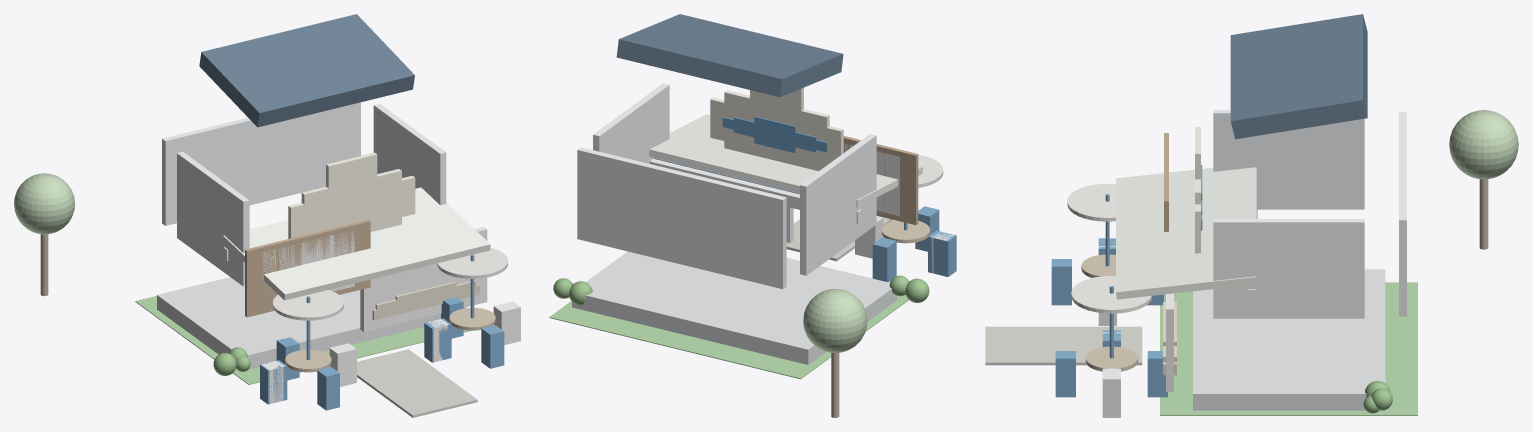
File: BUILDING_CAFE_COASTAL_001_LOD_CLOSE.glb
3 views of the same model, side by side, from view 1: azimuth 30°, elevation 25°; view 2: azimuth 150°, elevation 25°; view 3: azimuth 270°, elevation 25° (orthographic). The views are drawn at different scales.
Visible parts, largest first — view 1: MOD_ROOF_GABLE_STANDARD_001, MOD_WALL_WEATHERBOARD_WHITE_001.002, MOD_FOUNDATION_STANDARD_RECT_001, MOD_AWNING_COASTAL_CAFE_001_DEEP_SEATING_AWNING_CLOSE_CANOPY, MOD_WALL_WEATHERBOARD_WHITE_001, MOD_PATH_STANDARD_001_CLOSE_SURFACE, MOD_WINDOW_RESIDENTIAL_LARGE_001_COASTAL_PANORAMIC_WINDOW_CL, MOD_SERVICE_WINDOW_CAFE_001_BAKERY_DISPLAY_COUNTER_OPENING_C (×2), MOD_WALL_WEATHERBOARD_WHITE_001.001, MOD_CAFE_SIGN_STANDARD_001_BAKERY_CAFE_SHARED_PANEL_CLOSE_PA, MOD_OUTDOOR_TABLE_SEATING_COASTAL_001_UMBRELLA_TABLE_VARIAN. (×2), MOD_TREE_EUCALYPTUS_STANDARD_001_CLOSE_CANOPY (+13 smaller); view 2: MOD_WALL_WEATHERBOARD_WHITE_001.002, MOD_FOUNDATION_STANDARD_RECT_001, MOD_ROOF_GABLE_STANDARD_001, MOD_WALL_WEATHERBOARD_WHITE_001, MOD_GROUND_GRASS_STANDARD_001_CLOSE_PATCH, MOD_WALL_WEATHERBOARD_WHITE_001.001, MOD_AWNING_COASTAL_CAFE_001_DEEP_SEATING_AWNING_CLOSE_CANOPY, MOD_TREE_EUCALYPTUS_STANDARD_001_CLOSE_CANOPY, MOD_CAFE_SIGN_STANDARD_001_BAKERY_CAFE_SHARED_PANEL_CLOSE_PA, MOD_CAFE_SIGN_STANDARD_001_WALL_FASCIA_SIGN_CLOSE_PANEL, MOD_CAFE_SIGN_STANDARD_001_VERTICAL_SIDE_SIGN_CLOSE_PANEL, MOD_WINDOW_RESIDENTIAL_LARGE_001_COASTAL_PANORAMIC_WINDOW_CL (+17 smaller); view 3: MOD_FOUNDATION_STANDARD_RECT_001, MOD_WALL_WEATHERBOARD_WHITE_001.001, MOD_ROOF_GABLE_STANDARD_001, MOD_WALL_WEATHERBOARD_WHITE_001, MOD_AWNING_COASTAL_CAFE_001_CORNER_RETURN_AWNING_CLOSE_CANOP, MOD_GROUND_GRASS_STANDARD_001_CLOSE_PATCH, MOD_AWNING_COASTAL_CAFE_001_STRIPED_COASTAL_AWNING_CLOSE_CAN, MOD_OUTDOOR_TABLE_SEATING_COASTAL_001_UMBRELLA_TABLE_VARIAN. (×4), MOD_PATH_STANDARD_001_CLOSE_SURFACE, MOD_AWNING_COASTAL_CAFE_001_DEEP_SEATING_AWNING_CLOSE_CANOPY, MOD_TREE_EUCALYPTUS_STANDARD_001_CLOSE_CANOPY, MOD_AWNING_COASTAL_CAFE_001_SHALLOW_CAFE_AWNING_CLOSE_CANOPY (+6 smaller).
Boxes of the visible parts, <box> form: MOD_ROOF_GABLE_STANDARD_001: <box>199,14,414,127</box>; MOD_WALL_WEATHERBOARD_WHITE_001.002: <box>162,102,360,225</box>; MOD_FOUNDATION_STANDARD_RECT_001: <box>157,277,466,369</box>; MOD_AWNING_COASTAL_CAFE_001_DEEP_SEATING_AWNING_CLOSE_CANOPY: <box>222,187,490,300</box>; MOD_WALL_WEATHERBOARD_WHITE_001: <box>177,151,249,286</box>; MOD_PATH_STANDARD_001_CLOSE_SURFACE: <box>357,349,477,417</box>; MOD_WINDOW_RESIDENTIAL_LARGE_001_COASTAL_PANORAMIC_WINDOW_CL: <box>245,219,370,317</box>; MOD_SERVICE_WINDOW_CAFE_001_BAKERY_DISPLAY_COUNTER_OPENING_C (×2): <box>360,226,487,331</box>; MOD_WALL_WEATHERBOARD_WHITE_001.001: <box>373,103,446,205</box>; MOD_CAFE_SIGN_STANDARD_001_BAKERY_CAFE_SHARED_PANEL_CLOSE_PA: <box>301,169,401,234</box>; MOD_OUTDOOR_TABLE_SEATING_COASTAL_001_UMBRELLA_TABLE_VARIAN. (×2): <box>273,247,507,320</box>; MOD_TREE_EUCALYPTUS_STANDARD_001_CLOSE_CANOPY: <box>14,173,74,234</box>; MOD_WALL_WEATHERBOARD_WHITE_001.002: <box>577,147,786,289</box>; MOD_FOUNDATION_STANDARD_RECT_001: <box>572,251,897,364</box>; MOD_ROOF_GABLE_STANDARD_001: <box>616,14,843,97</box>; MOD_WALL_WEATHERBOARD_WHITE_001: <box>800,134,876,275</box>; MOD_GROUND_GRASS_STANDARD_001_CLOSE_PATCH: <box>549,295,908,379</box>; MOD_WALL_WEATHERBOARD_WHITE_001.001: <box>593,83,669,163</box>; MOD_AWNING_COASTAL_CAFE_001_DEEP_SEATING_AWNING_CLOSE_CANOPY: <box>649,114,922,207</box>; MOD_TREE_EUCALYPTUS_STANDARD_001_CLOSE_CANOPY: <box>803,289,867,352</box>; MOD_CAFE_SIGN_STANDARD_001_BAKERY_CAFE_SHARED_PANEL_CLOSE_PA: <box>724,90,829,171</box>; MOD_CAFE_SIGN_STANDARD_001_WALL_FASCIA_SIGN_CLOSE_PANEL: <box>710,97,843,165</box>; MOD_CAFE_SIGN_STANDARD_001_VERTICAL_SIDE_SIGN_CLOSE_PANEL: <box>750,87,803,166</box>; MOD_WINDOW_RESIDENTIAL_LARGE_001_COASTAL_PANORAMIC_WINDOW_CL: <box>843,136,918,225</box>; MOD_FOUNDATION_STANDARD_RECT_001: <box>1193,269,1385,410</box>; MOD_WALL_WEATHERBOARD_WHITE_001.001: <box>1213,219,1364,318</box>; MOD_ROOF_GABLE_STANDARD_001: <box>1230,14,1367,139</box>; MOD_WALL_WEATHERBOARD_WHITE_001: <box>1213,110,1364,209</box>; MOD_AWNING_COASTAL_CAFE_001_CORNER_RETURN_AWNING_CLOSE_CANOP: <box>1126,168,1246,287</box>; MOD_GROUND_GRASS_STANDARD_001_CLOSE_PATCH: <box>1160,282,1417,415</box>; MOD_AWNING_COASTAL_CAFE_001_STRIPED_COASTAL_AWNING_CLOSE_CAN: <box>1131,173,1235,287</box>; MOD_OUTDOOR_TABLE_SEATING_COASTAL_001_UMBRELLA_TABLE_VARIAN. (×4): <box>1053,183,1152,397</box>; MOD_PATH_STANDARD_001_CLOSE_SURFACE: <box>985,326,1142,365</box>; MOD_AWNING_COASTAL_CAFE_001_DEEP_SEATING_AWNING_CLOSE_CANOPY: <box>1116,167,1257,299</box>; MOD_TREE_EUCALYPTUS_STANDARD_001_CLOSE_CANOPY: <box>1449,110,1518,179</box>; MOD_AWNING_COASTAL_CAFE_001_SHALLOW_CAFE_AWNING_CLOSE_CANOPY: <box>1141,173,1231,266</box>.
Bounding box in the file's own units: 8.77 × 6.38 × 10.54.
